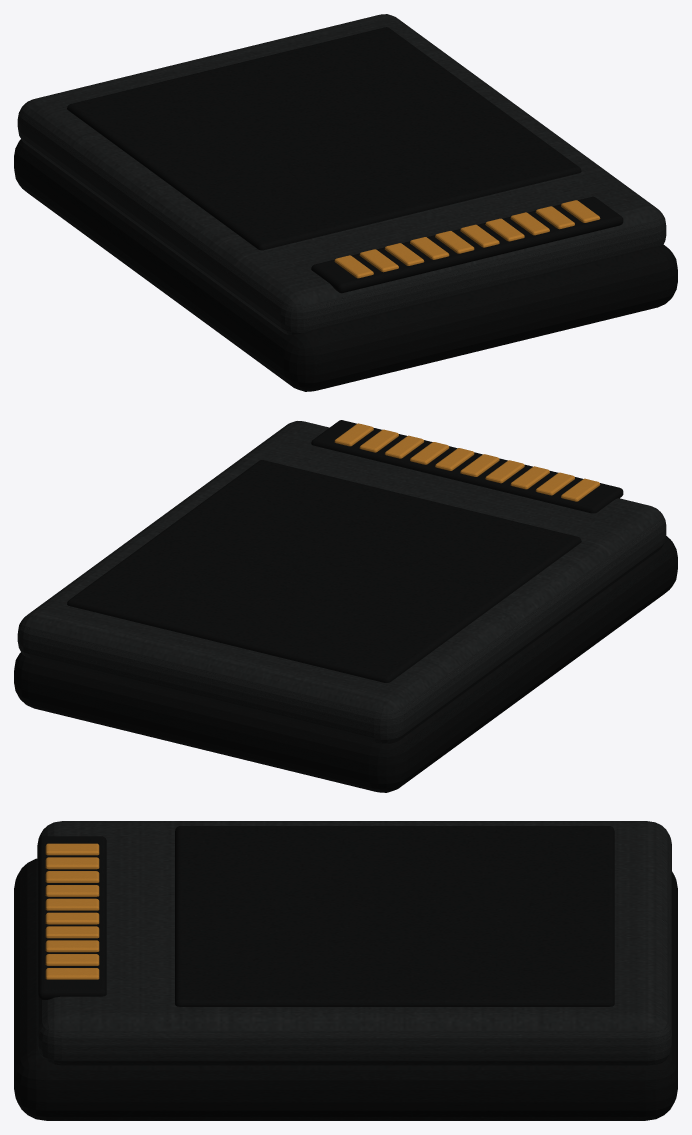
File: DataShard.glb
3 renders of one model, top to bottom at view 1: azimuth 30°, elevation 25°; view 2: azimuth 150°, elevation 25°; view 3: azimuth 270°, elevation 25°, orthographic. The views are drawn at different scales.
Parts seen in each view (by area): view 1: DataShard; view 2: DataShard; view 3: DataShard.
Boxes of the visible parts, <box> form: DataShard: <box>14,14,677,391</box>; DataShard: <box>14,420,677,792</box>; DataShard: <box>14,821,677,1120</box>.
Size of the model in its own units: 0.052 by 0.0135 by 0.068.
1 material, 1 textured.
